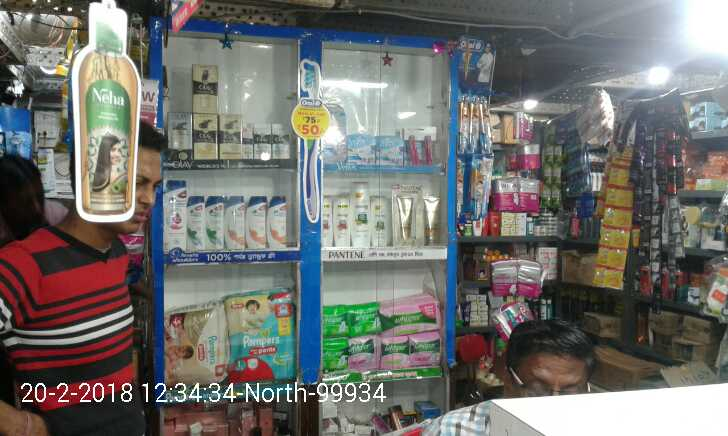venus: (326, 104, 345, 160), (348, 135, 376, 164), (376, 134, 402, 164), (404, 128, 422, 165), (422, 127, 437, 165)
